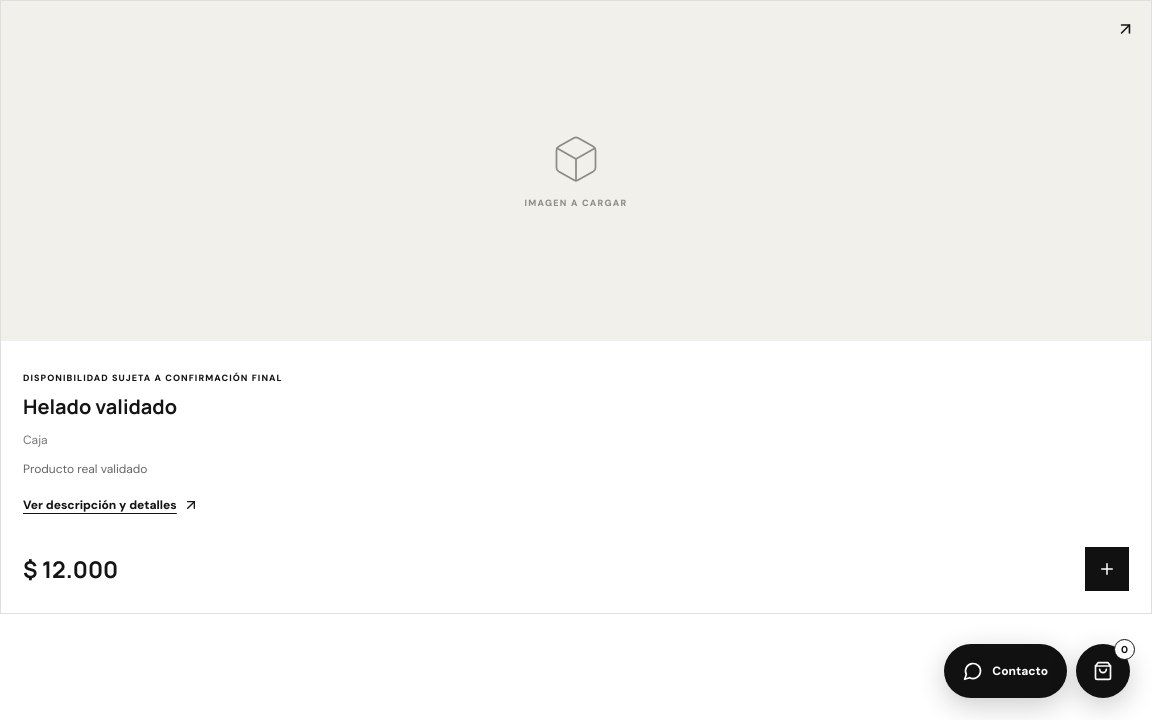
Test case: interacciones de tienda › agrega un producto y comunica feedback accesible
Click the button named "Agregar Helado validado al carrito" at (1107, 569), box [1085, 547, 1129, 591]
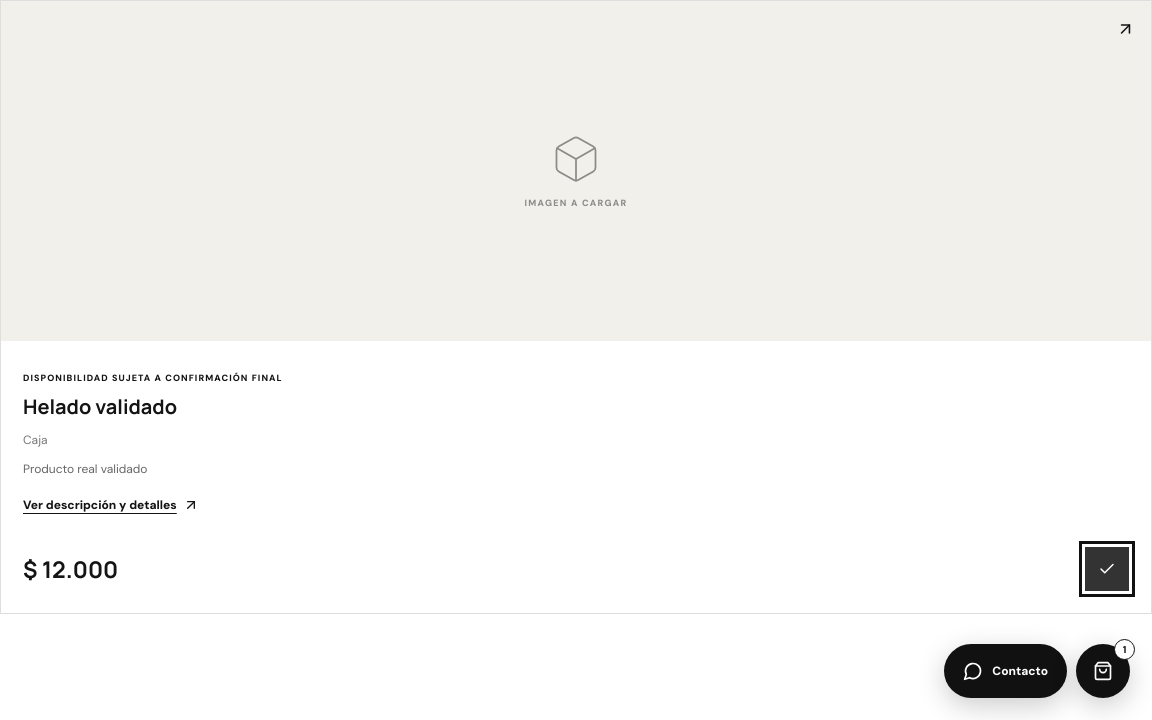
expect the button named "Helado validado agregado al carrito" is shown: met, box [1085, 547, 1129, 591]
expect the link named "Ver carrito, 1 producto" is shown: met, box [1076, 644, 1130, 698]
